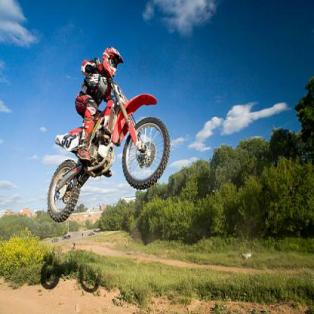Motocicleta: (43, 103, 171, 221)
